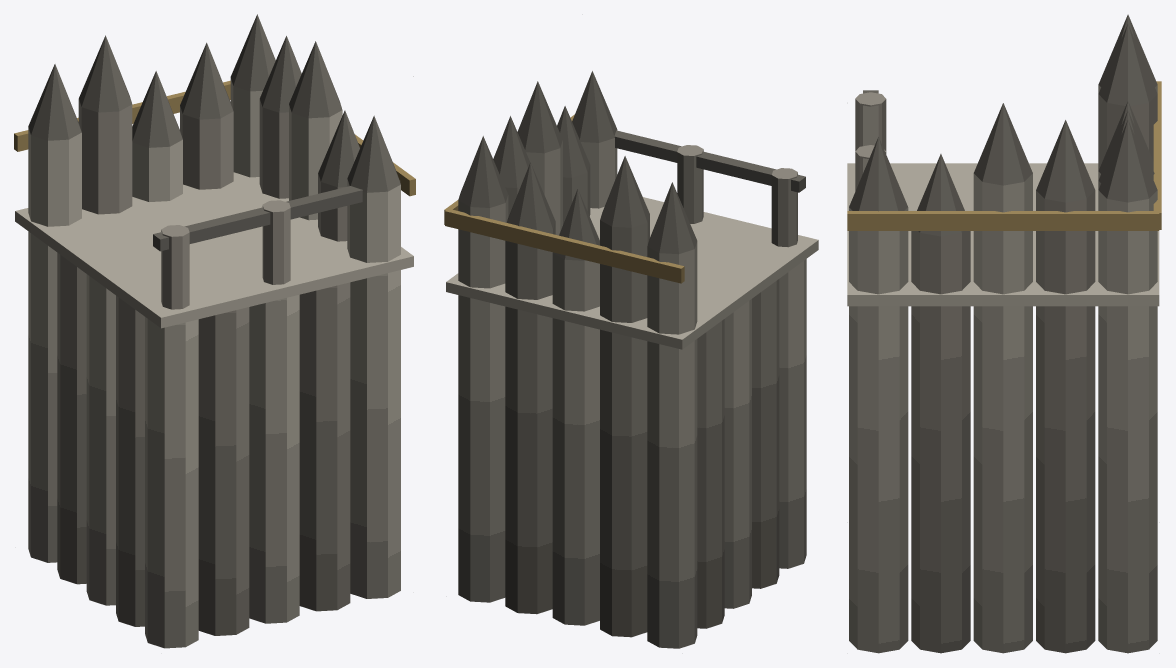
Rendered from perimeter_wall_stone_f8.glb.
3 views of the same model, side by side, from view 1: azimuth 30°, elevation 25°; view 2: azimuth 150°, elevation 25°; view 3: azimuth 270°, elevation 25° (orthographic). The views are drawn at different scales.
Bounding box in the file's own units: 2.01 × 3.9 × 2.01.
1 material, 1 textured.
